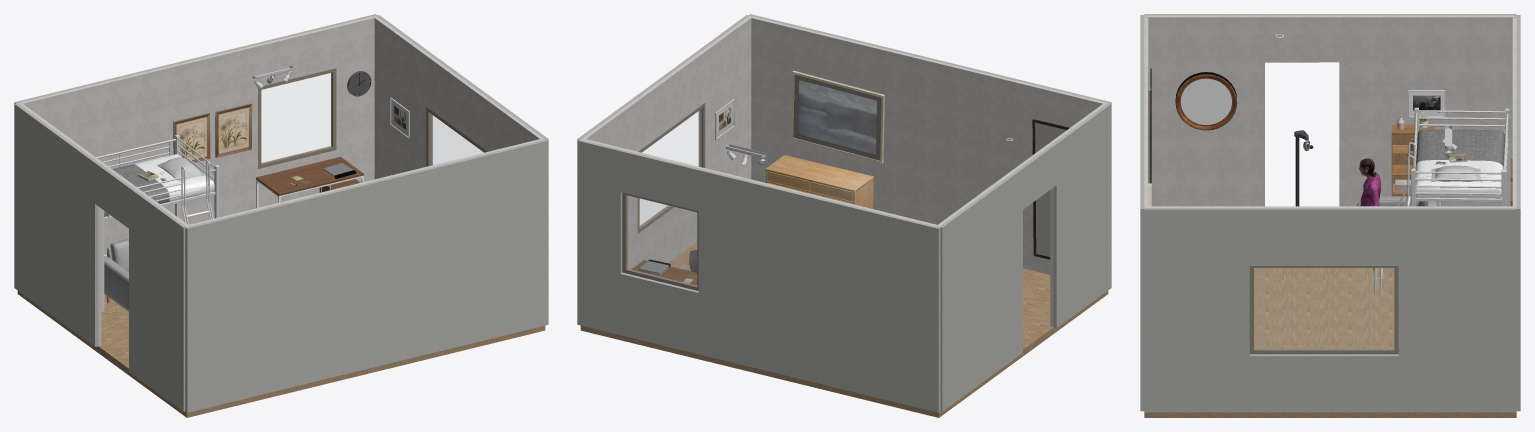
The picture shows the model from 3 angles, left to right: view 1: azimuth 30°, elevation 25°; view 2: azimuth 150°, elevation 25°; view 3: azimuth 270°, elevation 25°; orthographic projection. The views are drawn at different scales.
Parts seen in each view (by area): view 1: world (×12), glass (×2), room_geometry_bedroom__v0, Shader1.001 (×2), frame (×2), P_643f8d87c8bfe86e.001; view 2: world (×11), glass (×2), Rug.001, room_geometry_bedroom__v0, frame (×2); view 3: world (×14), room_geometry_bedroom__v0, glass, frame, base_link, robot_Generic_Black.
Part boxes in pixels (x1,y1,x2,y2): world (×12): (14, 14, 548, 412); glass (×2): (261, 73, 483, 165); room_geometry_bedroom__v0: (17, 291, 545, 417); Shader1.001 (×2): (173, 103, 252, 162); frame (×2): (258, 68, 487, 168); P_643f8d87c8bfe86e.001: (256, 156, 363, 195); world (×11): (577, 14, 1111, 412); glass (×2): (627, 109, 701, 285); Rug.001: (791, 71, 884, 163); room_geometry_bedroom__v0: (580, 242, 1108, 417); frame (×2): (622, 103, 705, 290); world (×14): (1140, 14, 1520, 412); room_geometry_bedroom__v0: (1144, 268, 1516, 417); glass: (1254, 268, 1393, 349); frame: (1249, 266, 1398, 354); base_link: (1360, 171, 1381, 206); robot_Generic_Black: (1294, 136, 1313, 206).
Size of the model in its own units: 5.6 by 2.8 by 4.6.
Materials: 62 (35 with a texture image).
